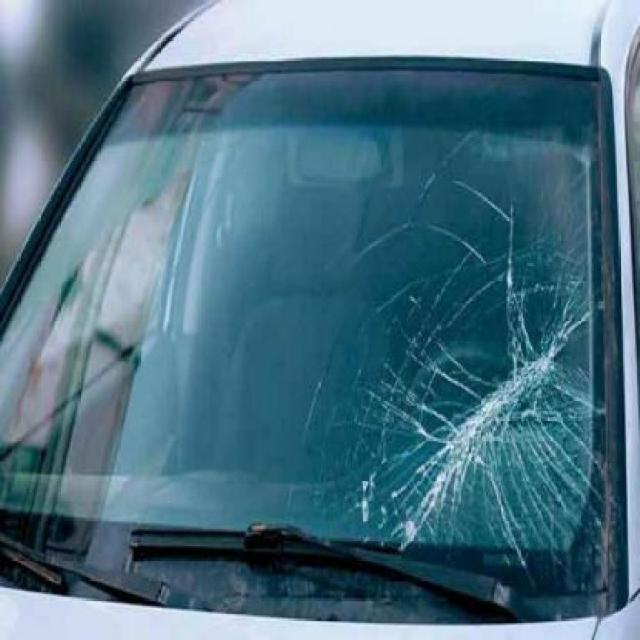damage: (372, 274, 593, 550)
